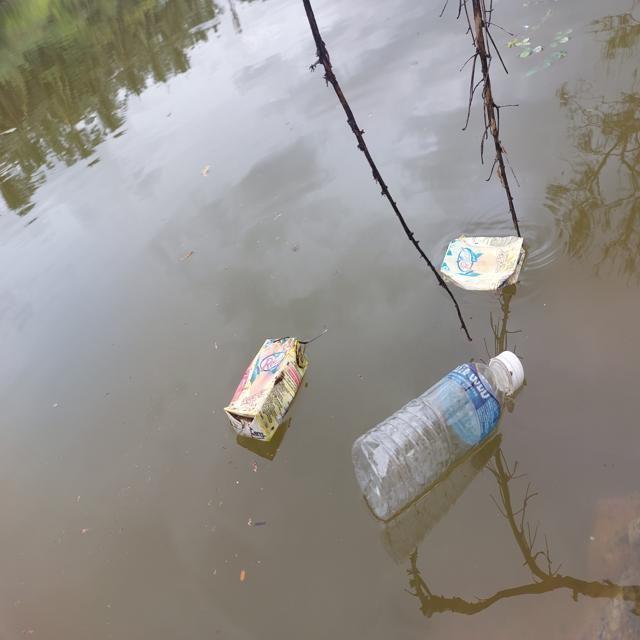paper: (213, 332, 323, 458), (433, 218, 583, 306)
waterbottle: (326, 357, 544, 502)
